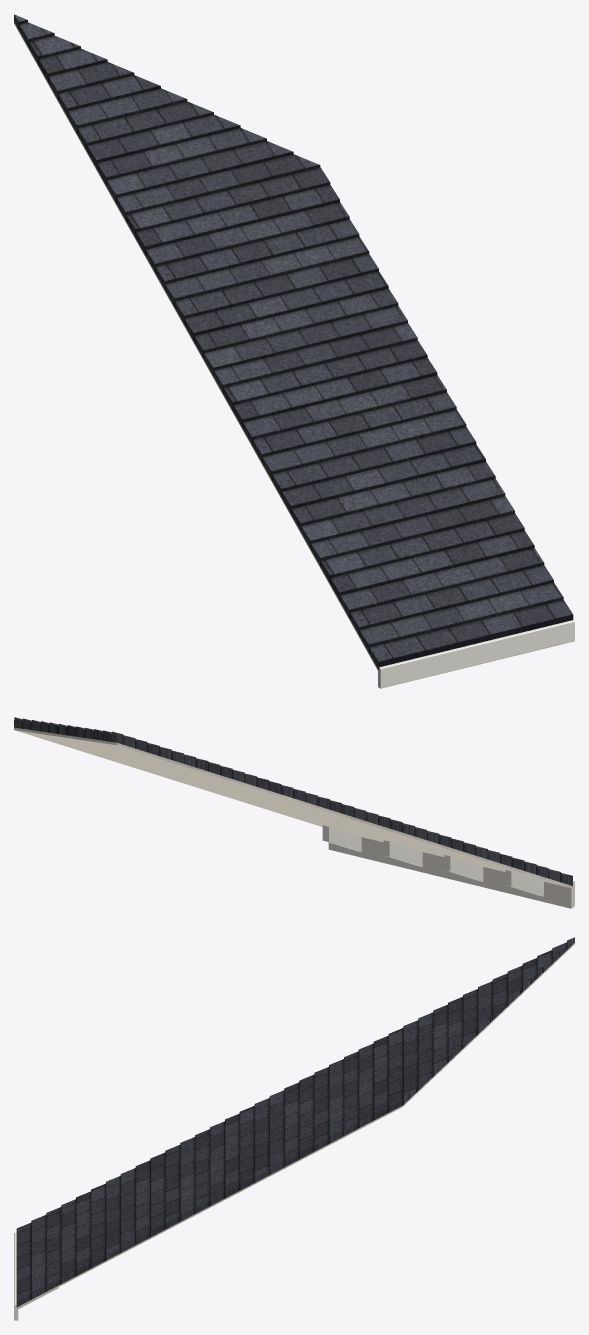
The model's file is roof_main_2_porch.glb.
3 views of the same model, one above another, from view 1: azimuth 30°, elevation 25°; view 2: azimuth 150°, elevation 25°; view 3: azimuth 270°, elevation 25° (orthographic). The views are drawn at different scales.
Visible parts, largest first — view 1: roof_main_2_porch_shingles, roof_main_2_porch_trim, roof_main_2_porch_plaster; view 2: roof_main_2_porch_plaster, roof_main_2_porch_shingles, roof_main_2_porch_trim; view 3: roof_main_2_porch_shingles, roof_main_2_porch_plaster.
Part boxes in pixels (bbox=[...]): roof_main_2_porch_shingles: bbox=[14, 14, 573, 669]; roof_main_2_porch_trim: bbox=[378, 620, 574, 688]; roof_main_2_porch_plaster: bbox=[14, 22, 378, 671]; roof_main_2_porch_plaster: bbox=[14, 727, 572, 888]; roof_main_2_porch_shingles: bbox=[14, 717, 572, 885]; roof_main_2_porch_trim: bbox=[322, 825, 574, 908]; roof_main_2_porch_shingles: bbox=[16, 937, 574, 1306]; roof_main_2_porch_plaster: bbox=[16, 943, 574, 1308].
Size of the model in its own units: 2 by 3.99 by 6.53.
3 materials, 2 textured.
